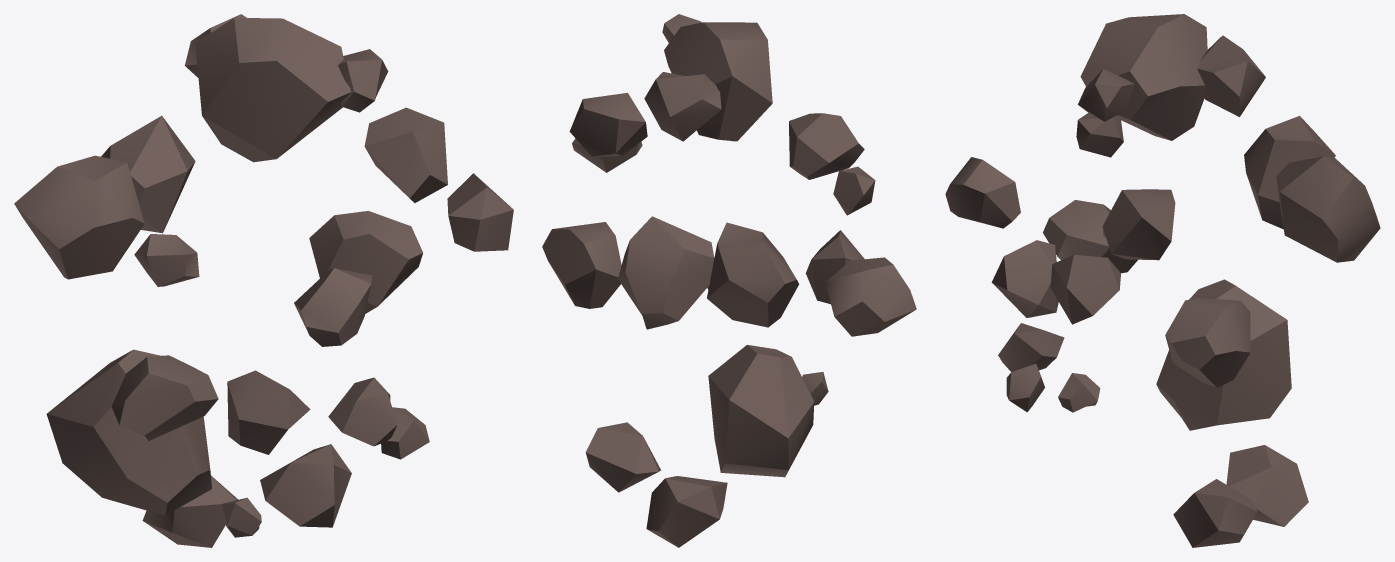
The model's file is p_mesh_hvs_gold_rocks01.fbx.
3 renders of one model, left to right at view 1: azimuth 30°, elevation 25°; view 2: azimuth 150°, elevation 25°; view 3: azimuth 270°, elevation 25°, orthographic. The views are drawn at different scales.
Parts seen in each view (by area): view 1: rock0.005; view 2: rock0.005; view 3: rock0.005.
Part boxes in pixels (box(x1,y1,x2,y2)): rock0.005: box(14, 14, 513, 547); rock0.005: box(542, 14, 916, 547); rock0.005: box(945, 14, 1380, 547).
Bounding box in the file's own units: 7.08 × 9.61 × 7.38.
